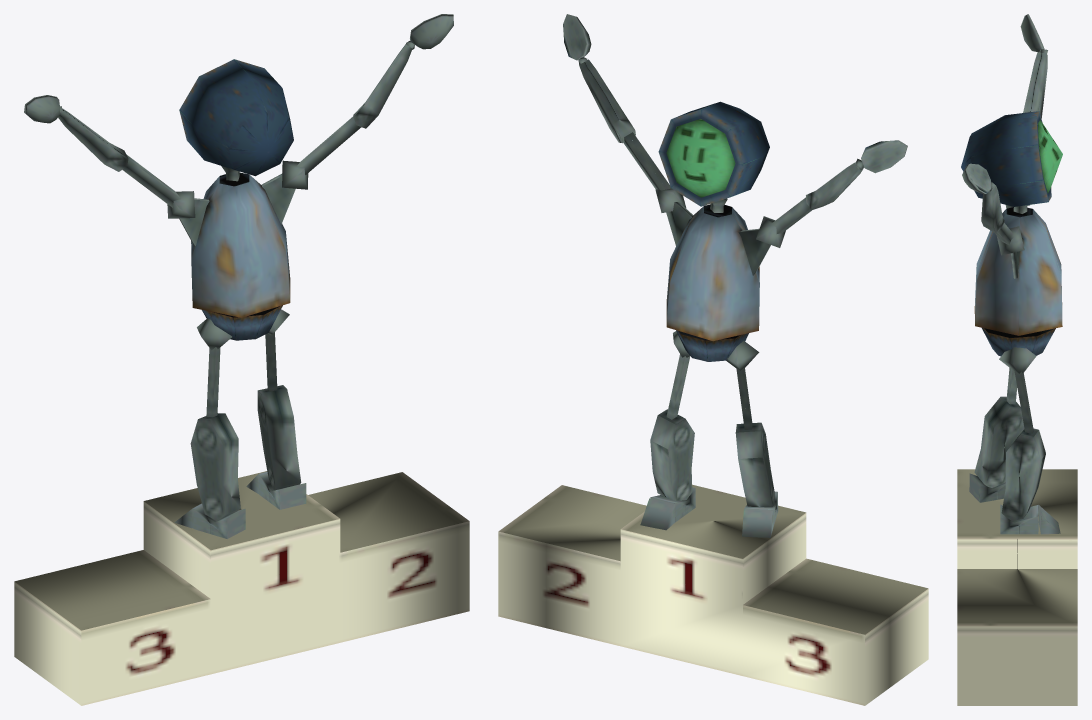
File: ucp.ico.obj
3 views of the same model, side by side, from view 1: azimuth 30°, elevation 25°; view 2: azimuth 150°, elevation 25°; view 3: azimuth 270°, elevation 25° (orthographic). The views are drawn at different scales.
Bounding box in the file's own units: 3.49 × 4.92 × 1.
